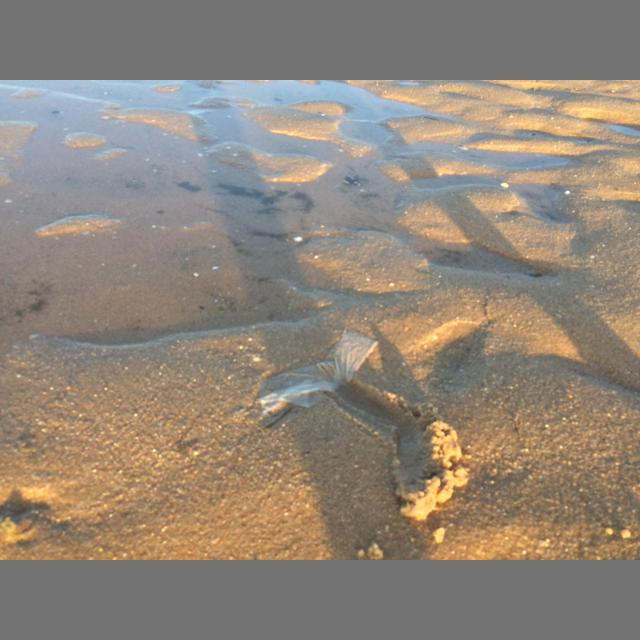litter: (259, 328, 380, 425)
